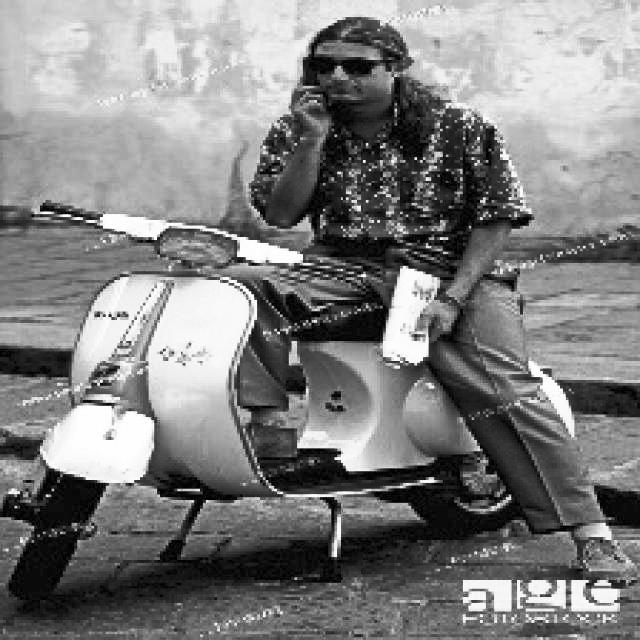Bike: (6, 196, 479, 624)
